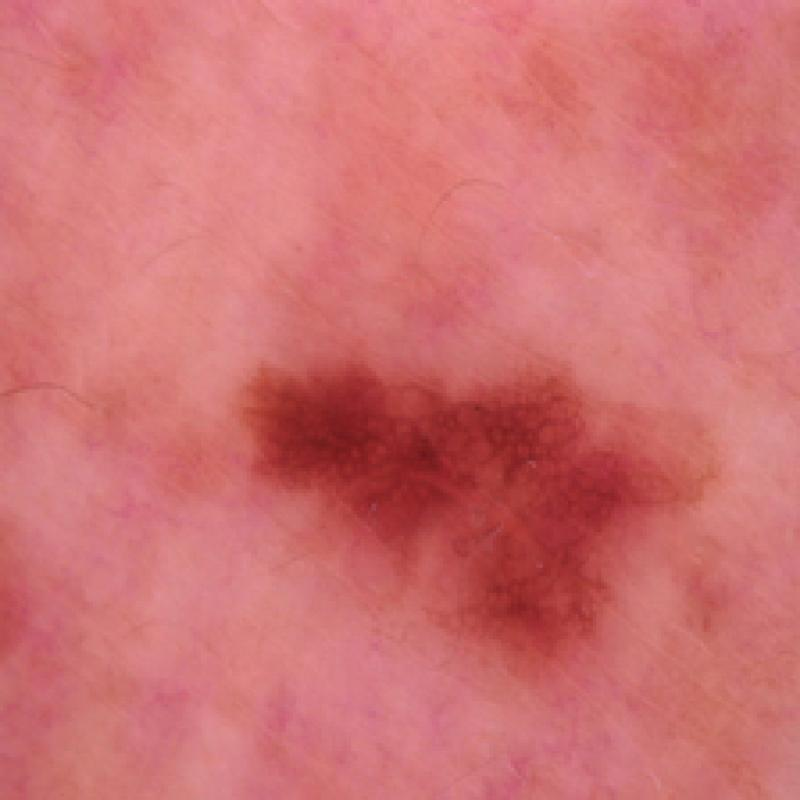benign: (205, 335, 735, 684)
